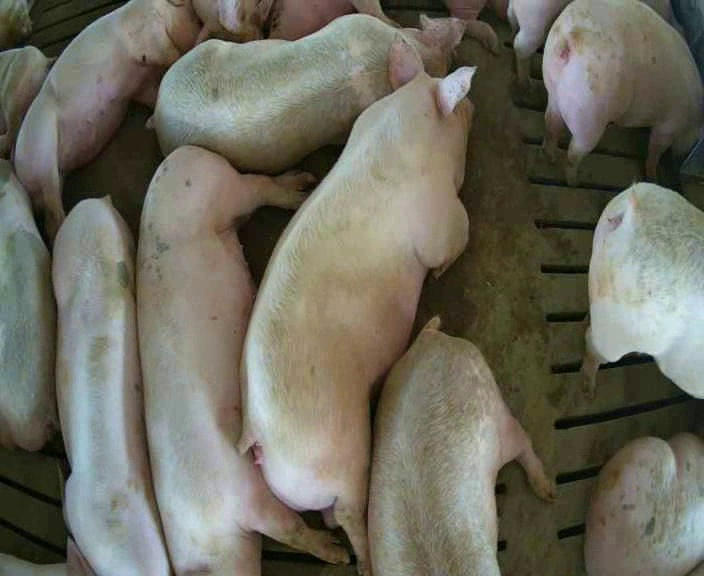pig: (241, 31, 474, 573), (137, 146, 347, 574), (146, 14, 464, 171), (368, 317, 555, 574), (14, 2, 201, 238), (53, 197, 169, 574), (543, 2, 703, 182), (583, 183, 703, 398), (585, 433, 703, 574), (192, 0, 396, 42), (0, 46, 56, 157)
